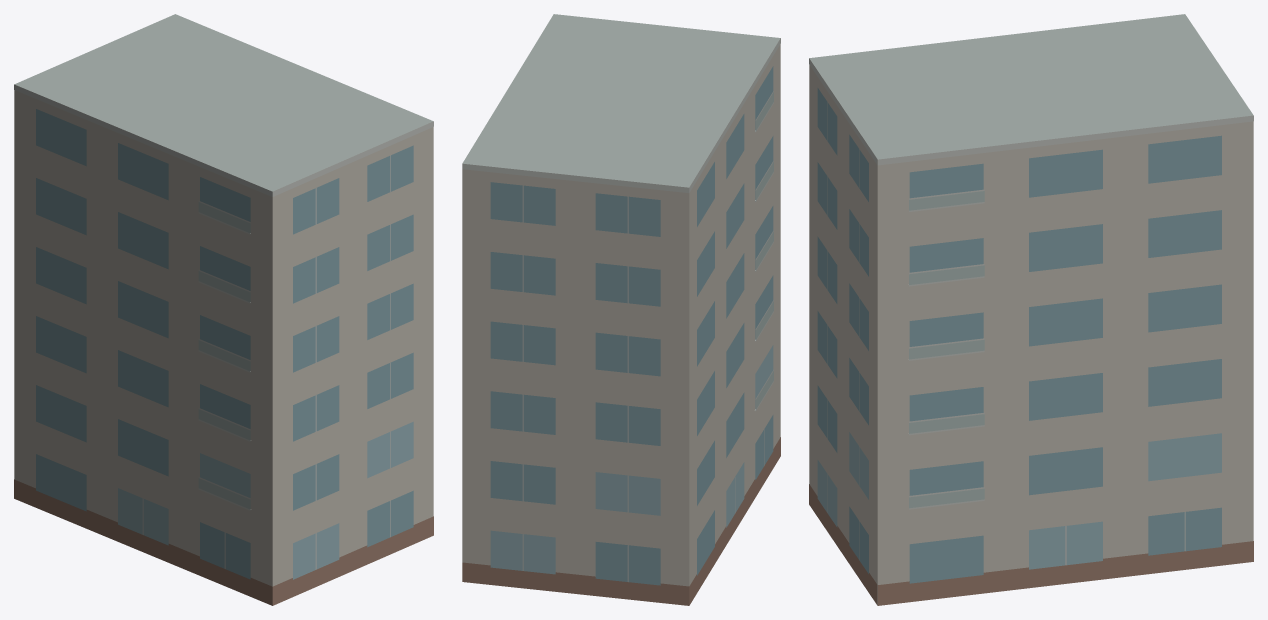
Rendered from survey-upis-33010440.glb.
The picture shows the model from 3 angles, left to right: view 1: azimuth 30°, elevation 25°; view 2: azimuth 150°, elevation 25°; view 3: azimuth 270°, elevation 25°; orthographic projection. The views are drawn at different scales.
Parts seen in each view (by area): view 1: survey-upis-33010440.tmp; view 2: survey-upis-33010440.tmp; view 3: survey-upis-33010440.tmp.
Part boxes in pixels (x1=…): survey-upis-33010440.tmp: x1=14, y1=14, x2=433, y2=605; survey-upis-33010440.tmp: x1=462, y1=14, x2=780, y2=605; survey-upis-33010440.tmp: x1=809, y1=14, x2=1253, y2=605.
Size of the model in its own units: 12.88 by 18.4 by 16.62.
